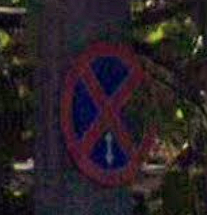oprirea_interzisa: (59, 39, 161, 189)
